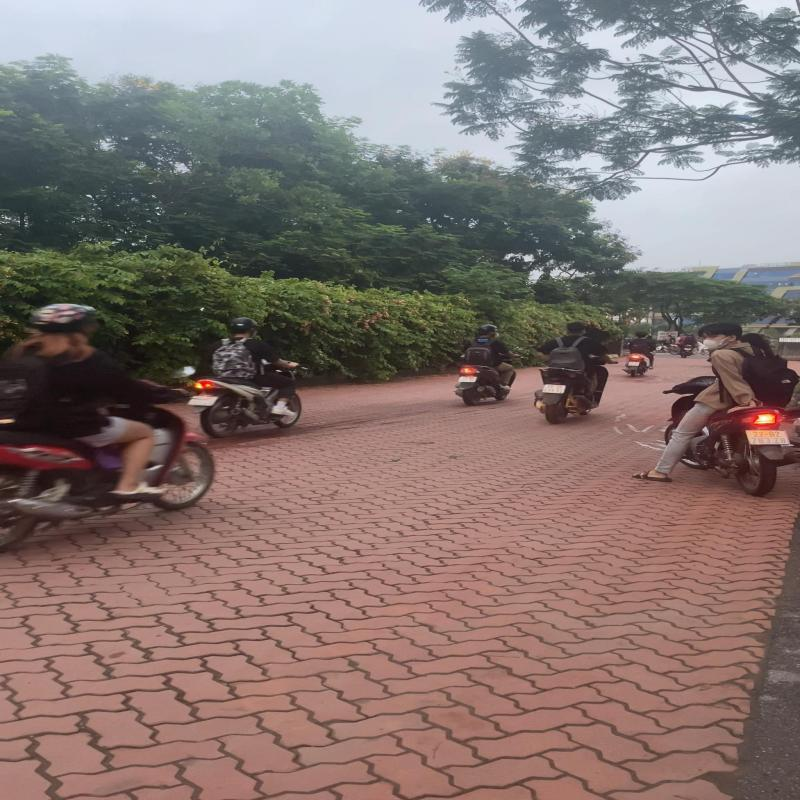licenseplate: (542, 384, 566, 393)
motorcyclist: (532, 321, 619, 425)
nohelmet: (564, 321, 586, 334)
